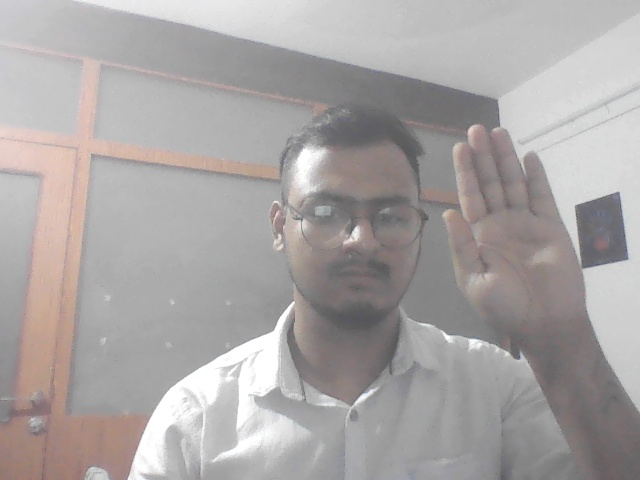Hello: (430, 121, 599, 340)
